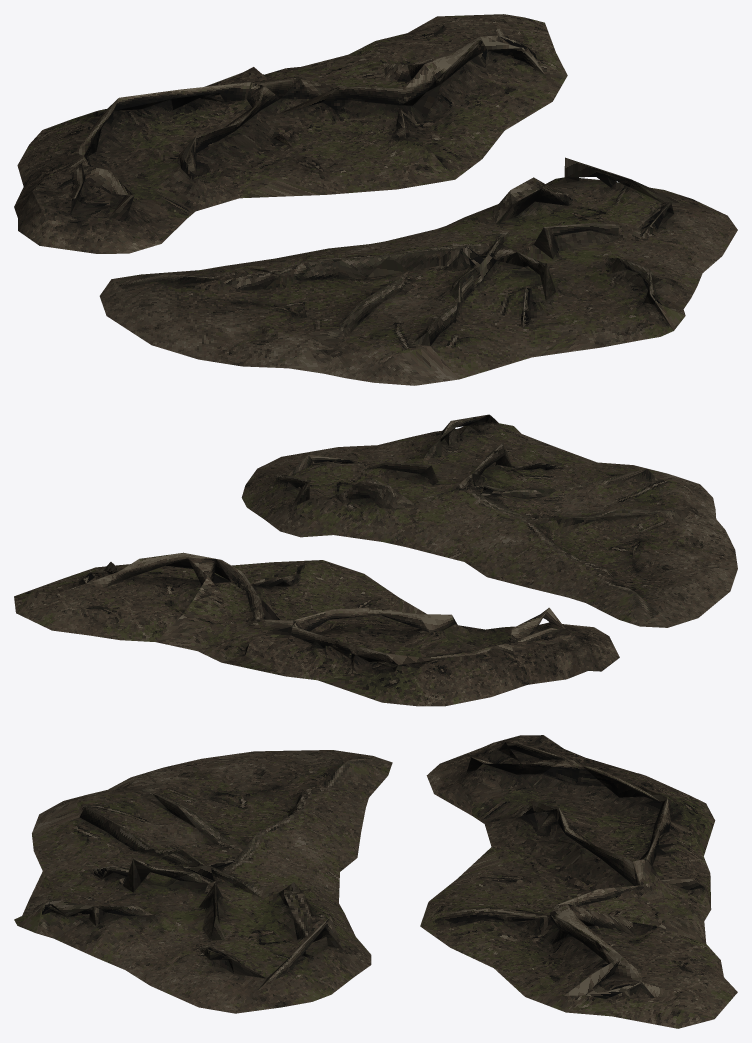
File: pine_roots.glb
The picture shows the model from 3 angles, top to bottom: view 1: azimuth 30°, elevation 25°; view 2: azimuth 150°, elevation 25°; view 3: azimuth 270°, elevation 25°; orthographic projection. The views are drawn at different scales.
Parts seen in each view (by area): view 1: pine_roots_b, pine_roots_a; view 2: pine_roots_b, pine_roots_a; view 3: pine_roots_b, pine_roots_a.
Boxes of the visible parts, x1=… form: pine_roots_b: x1=99, y1=157, x2=737, y2=385; pine_roots_a: x1=14, y1=14, x2=567, y2=253; pine_roots_b: x1=241, y1=414, x2=737, y2=627; pine_roots_a: x1=14, y1=552, x2=619, y2=706; pine_roots_b: x1=14, y1=750, x2=392, y2=1013; pine_roots_a: x1=420, y1=735, x2=737, y2=1028.
Bounding box in the file's own units: 1.78 × 0.1472 × 1.9.
Materials: 2 (2 with a texture image).
